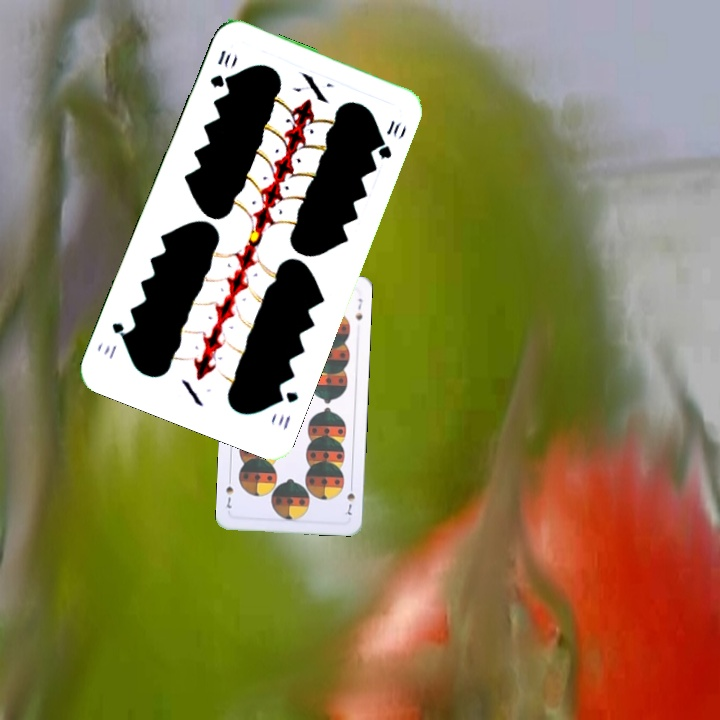G10: (271, 387, 301, 433), (206, 46, 235, 90)
S7: (343, 479, 357, 518)
